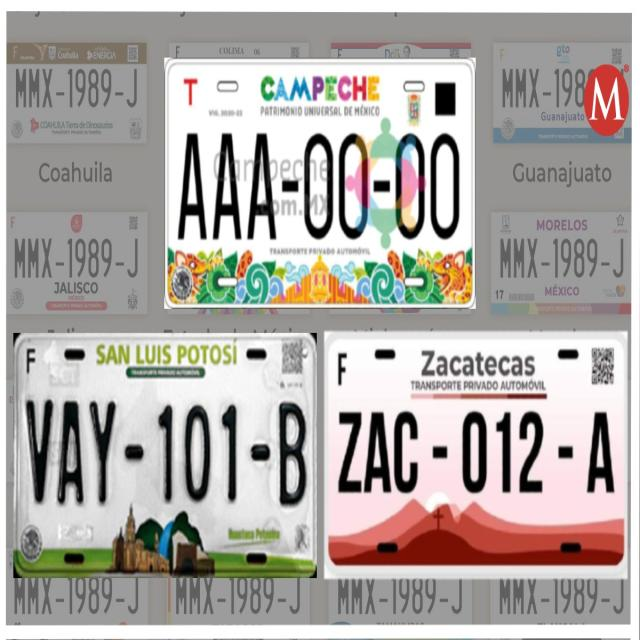placa: (166, 119, 469, 248), (17, 388, 314, 517), (328, 389, 624, 517)
